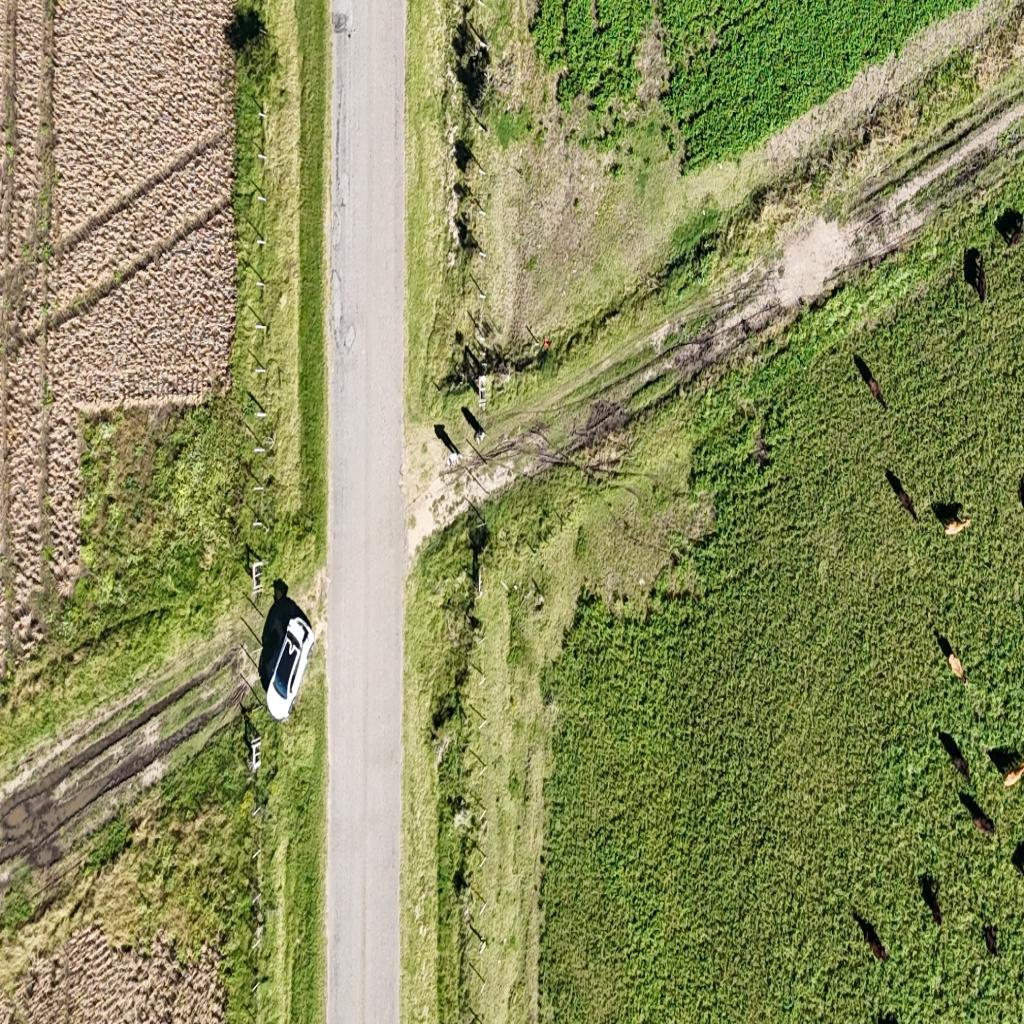cow: (966, 211, 1022, 305), (852, 906, 890, 964), (936, 728, 972, 784), (986, 743, 1024, 792), (934, 628, 967, 683), (854, 353, 886, 407), (886, 468, 918, 521), (959, 789, 995, 836), (930, 499, 971, 537), (918, 870, 944, 928), (964, 246, 987, 306), (995, 207, 1023, 250), (982, 923, 998, 956), (1016, 840, 1024, 882), (876, 1009, 899, 1023)
